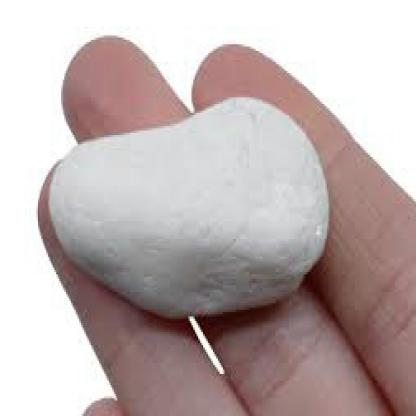Metamorphic_Marble: (37, 89, 338, 323)
